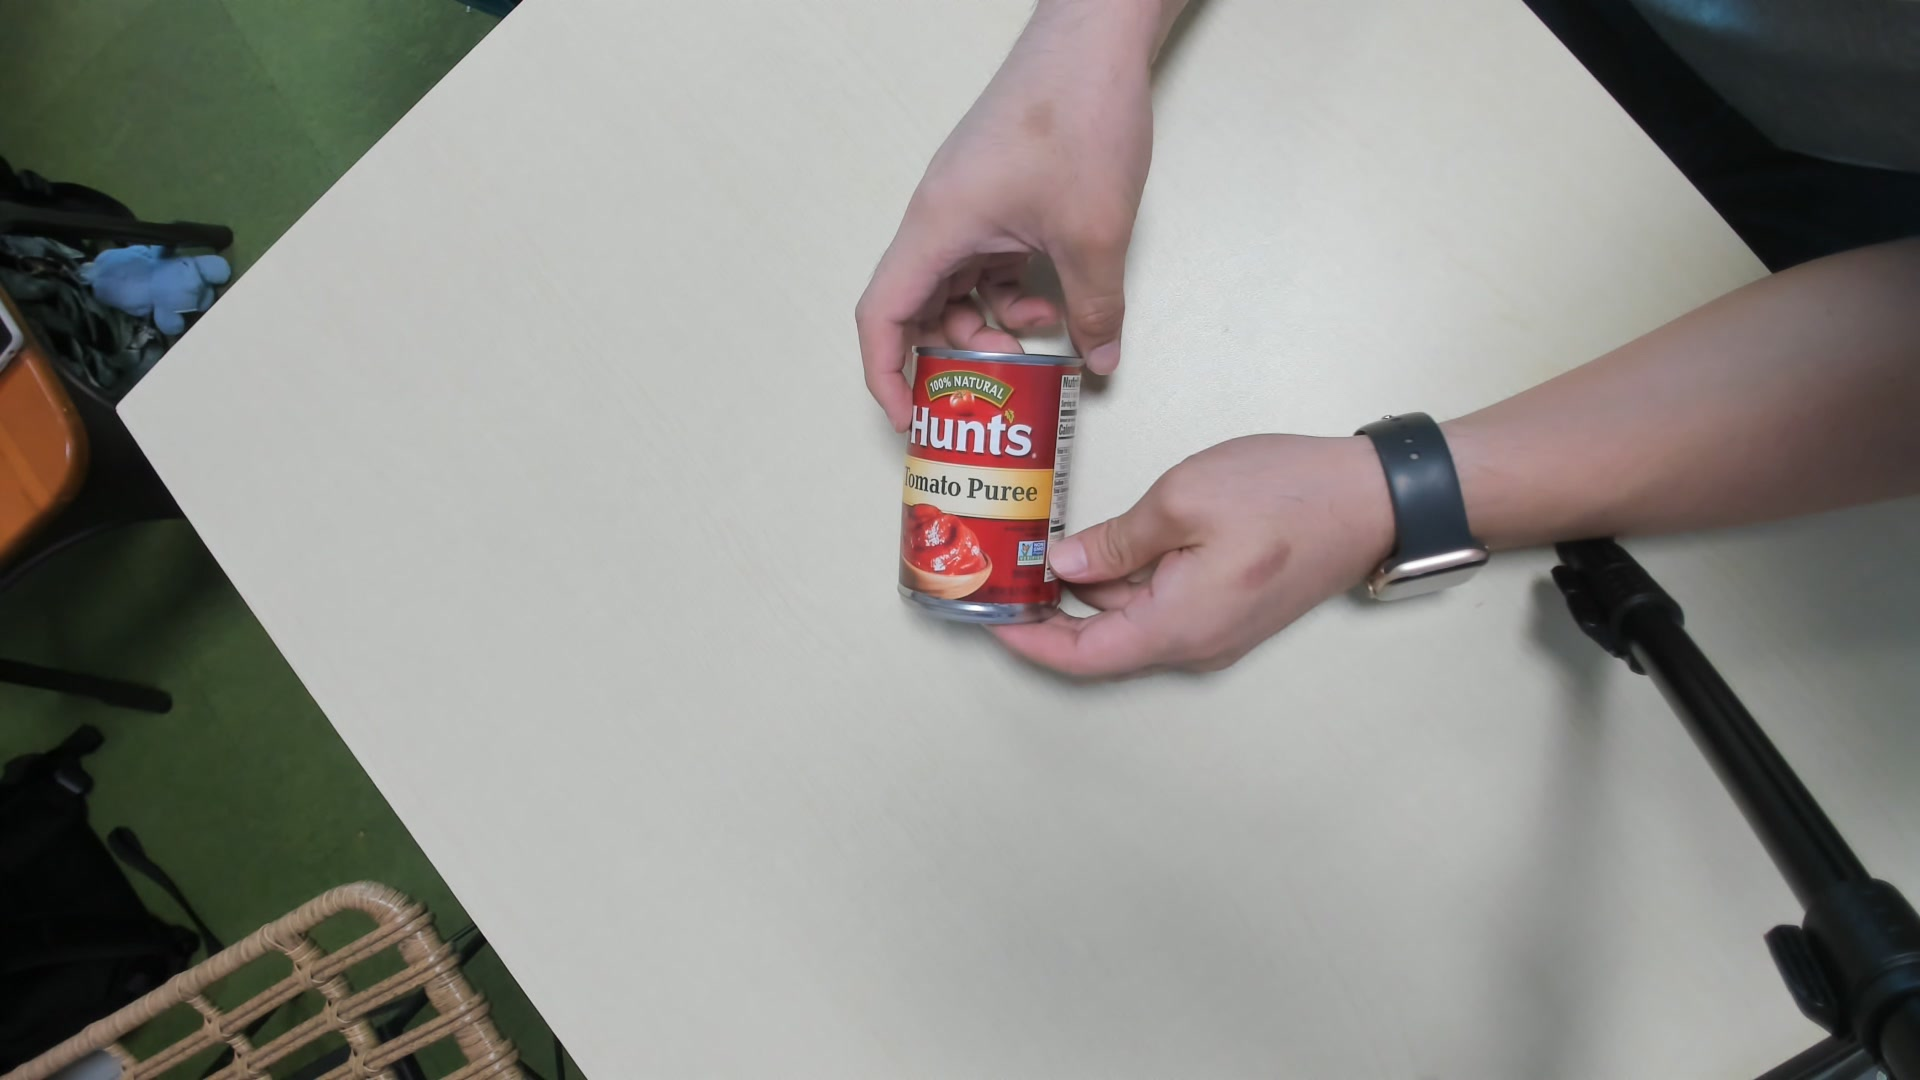OtherSauceDressing_300-399g_NonHalal_NonHealthy: (898, 326, 1091, 633)
